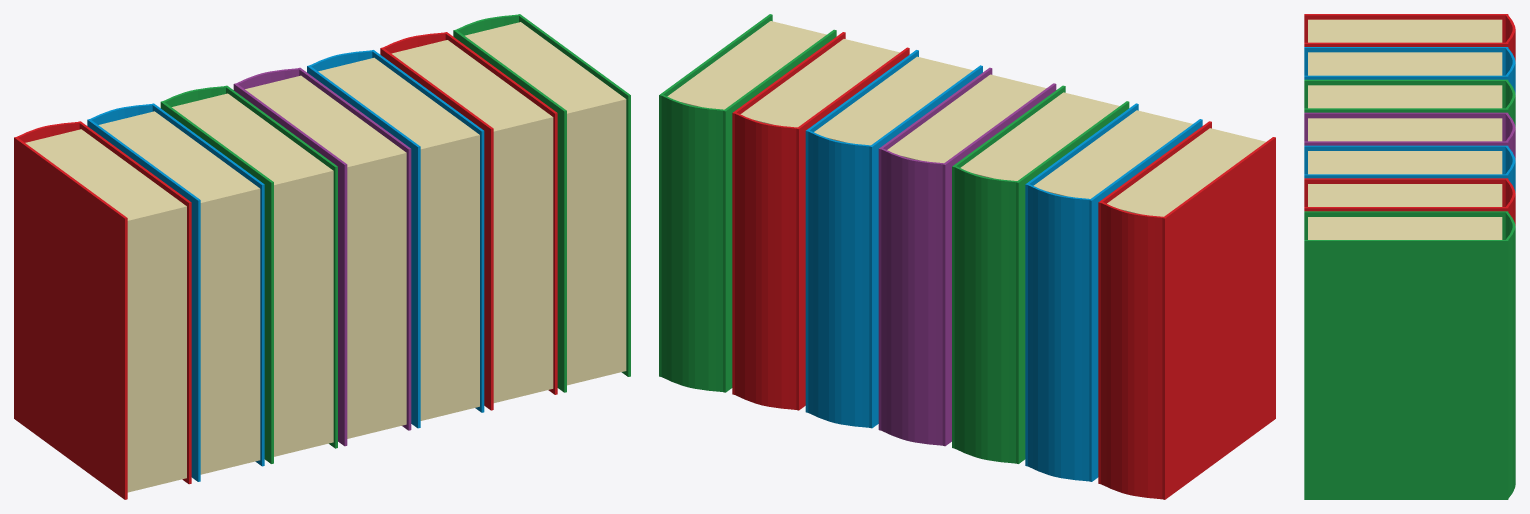
Rendered from books2.obj.
The picture shows the model from 3 angles, left to right: view 1: azimuth 30°, elevation 25°; view 2: azimuth 150°, elevation 25°; view 3: azimuth 270°, elevation 25°; orthographic projection. The views are drawn at different scales.
Visible parts, largest first — view 1: Cube.032; view 2: Cube.032; view 3: Cube.032.
Boxes of the visible parts, x1,y1,x2,y2 form: Cube.032: (14,14,630,499); Cube.032: (659,14,1275,499); Cube.032: (1304,14,1515,499).
Bounding box in the file's own units: 0.3956 × 0.2102 × 0.1554.
Materials: 1 (1 with a texture image).
